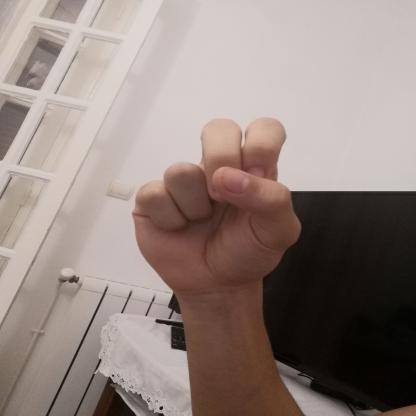QAAF: (116, 106, 320, 306)
